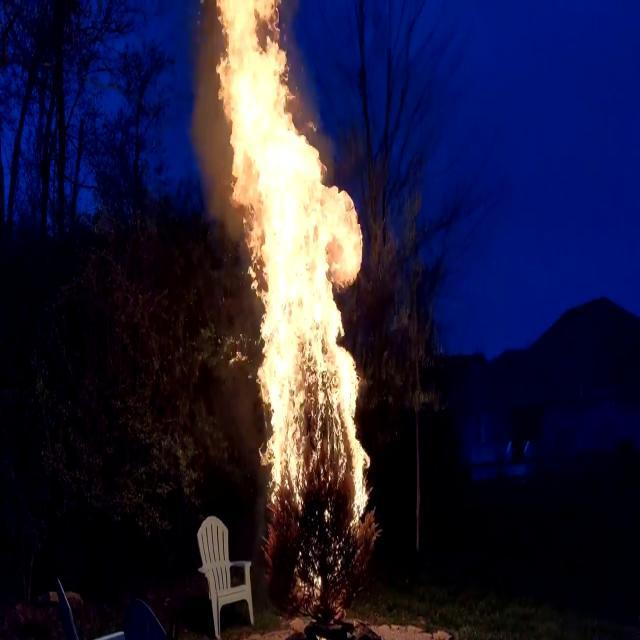Fire: (197, 1, 375, 527)
